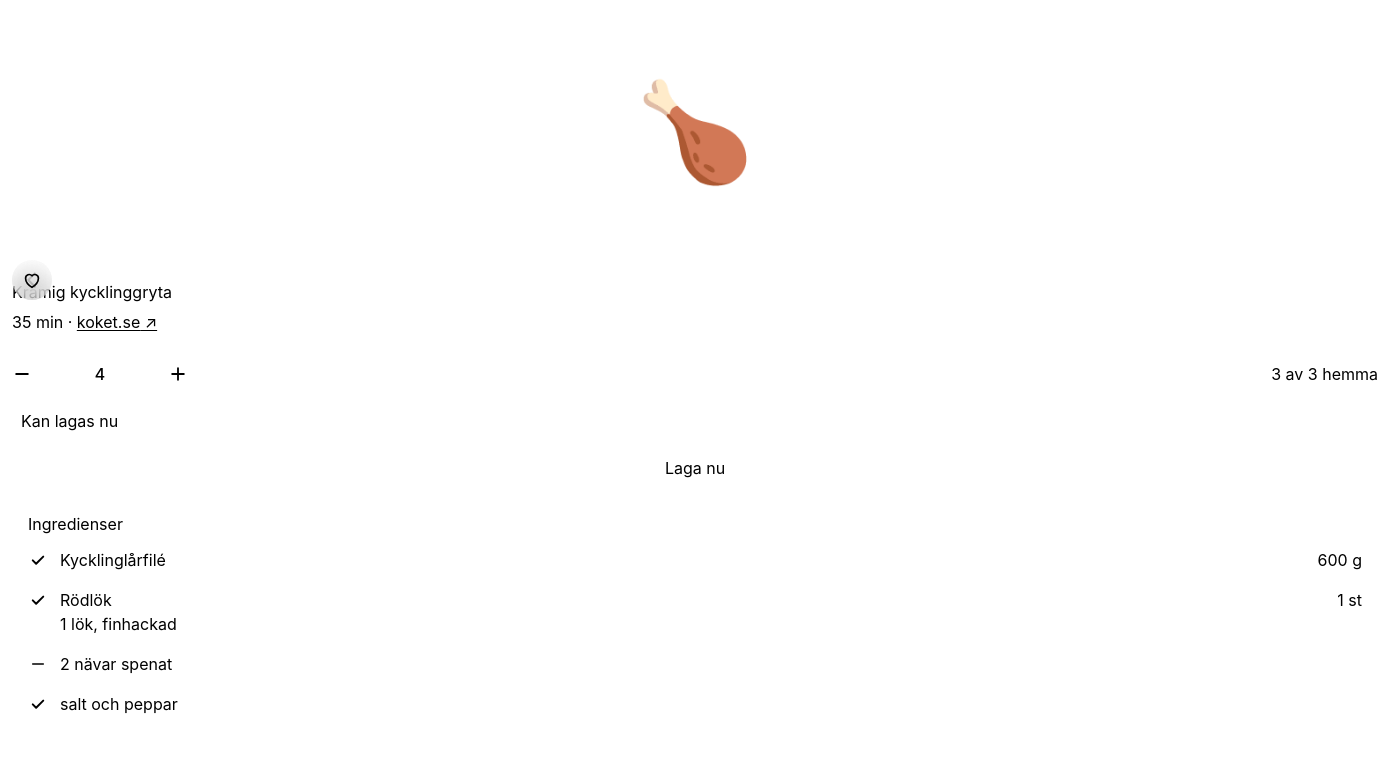
Test: RecipeView: the portion selector › never scales a vague line or the text of a line without ingredient, which shows the factor instead
Click the button named "Fler portioner" at (178, 374), box [168,364,188,384]
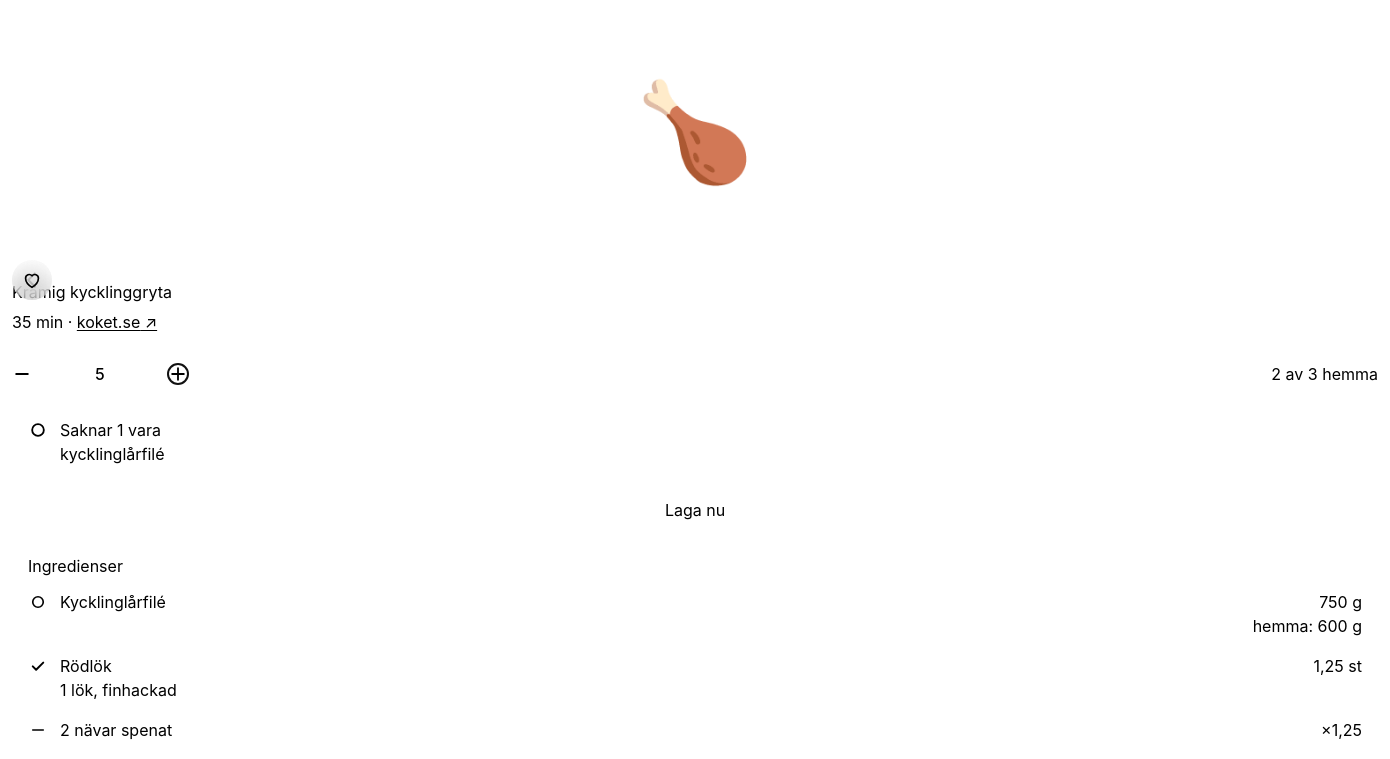
Click the button named "Fler portioner" at (178, 374), box [168,364,188,384]
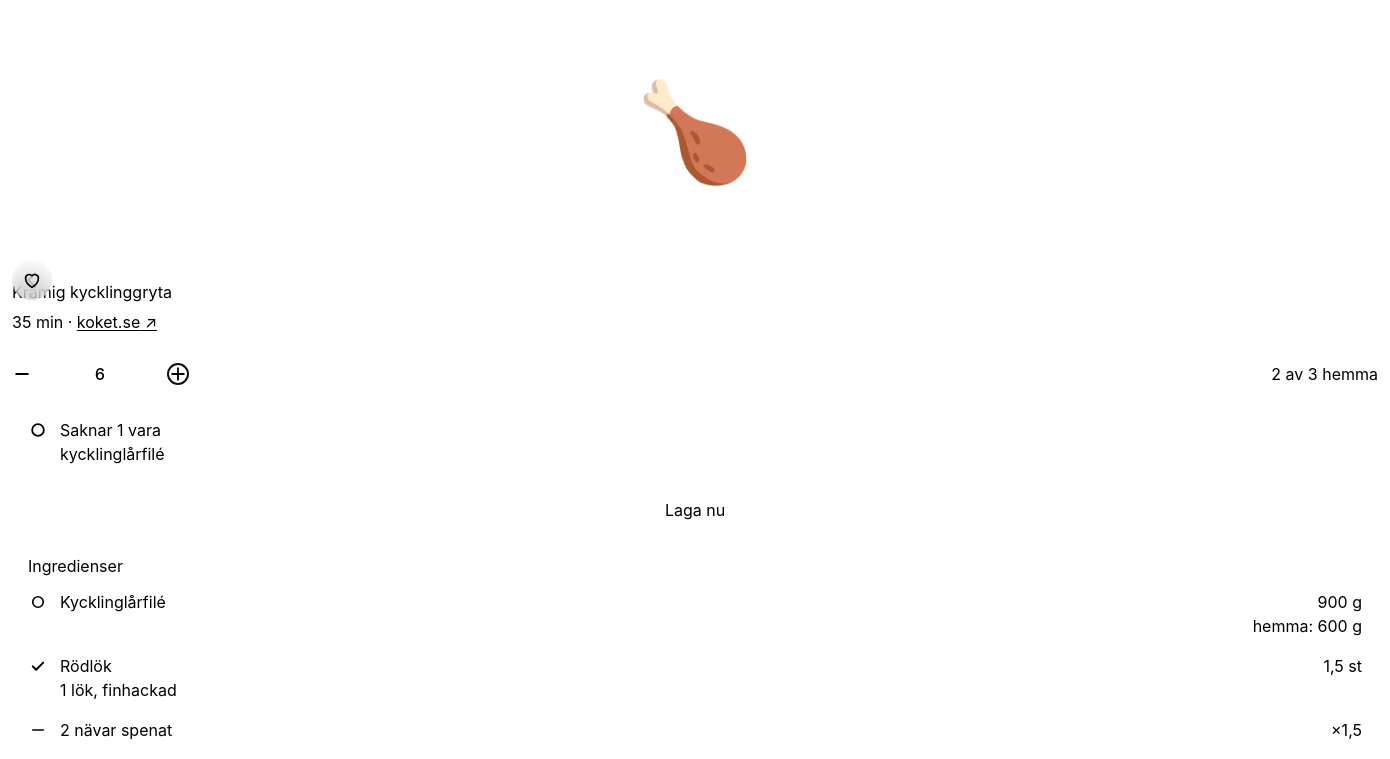
Click the button named "Fler portioner" at (178, 374), box [168,364,188,384]
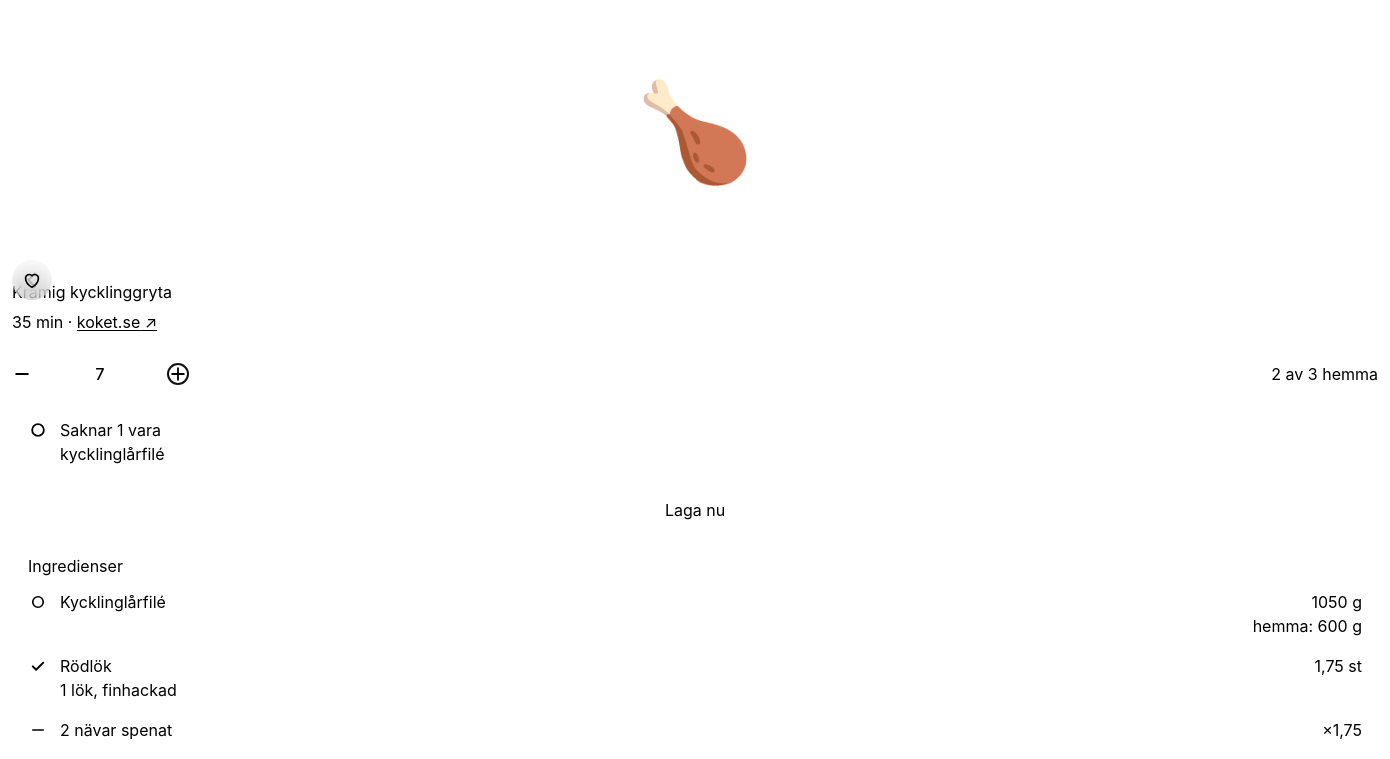
Click the button named "Fler portioner" at (178, 374), box [168,364,188,384]
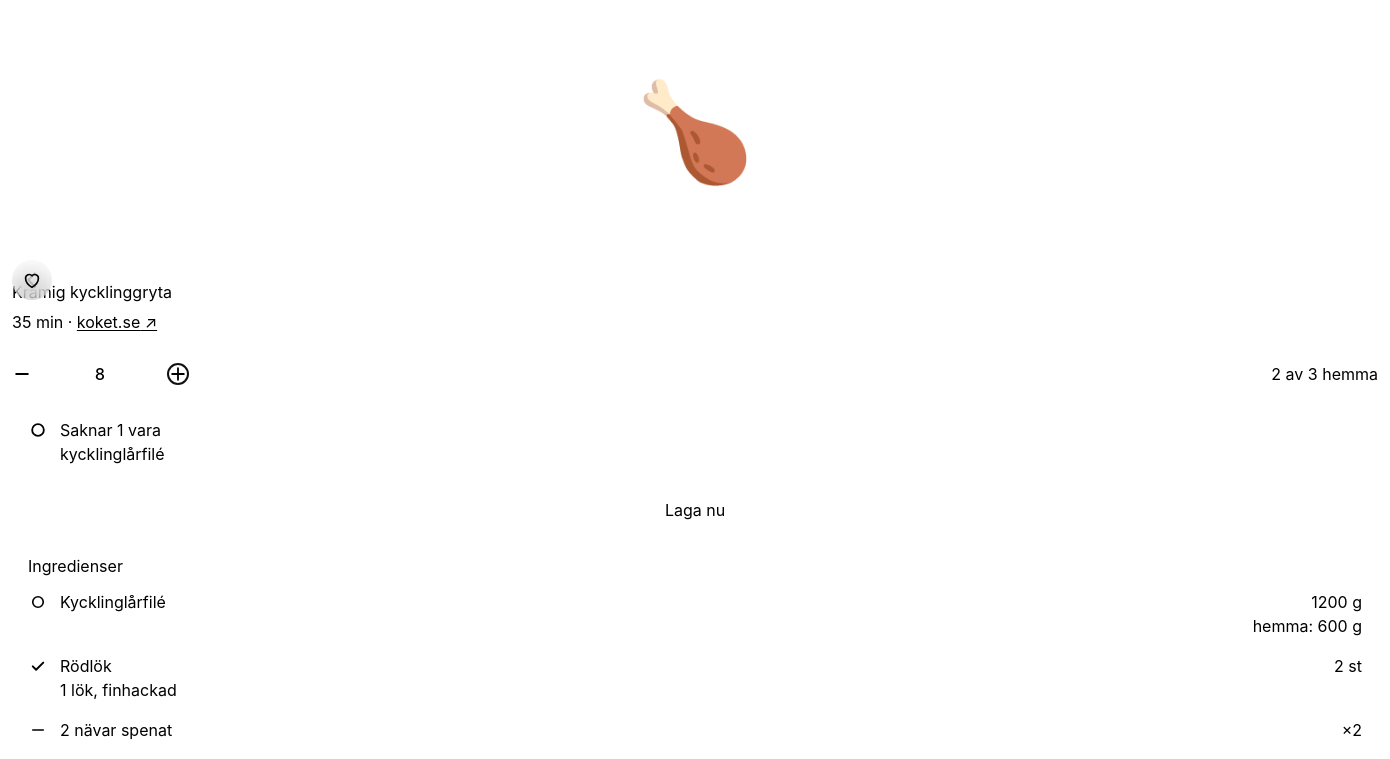
Now the list item with test id "recipe-view-line" reads "2 nävar spenat ×2", box [29,720,1362,740]
Click the button named "Färre portioner" at (22, 374), box [12,364,32,384]
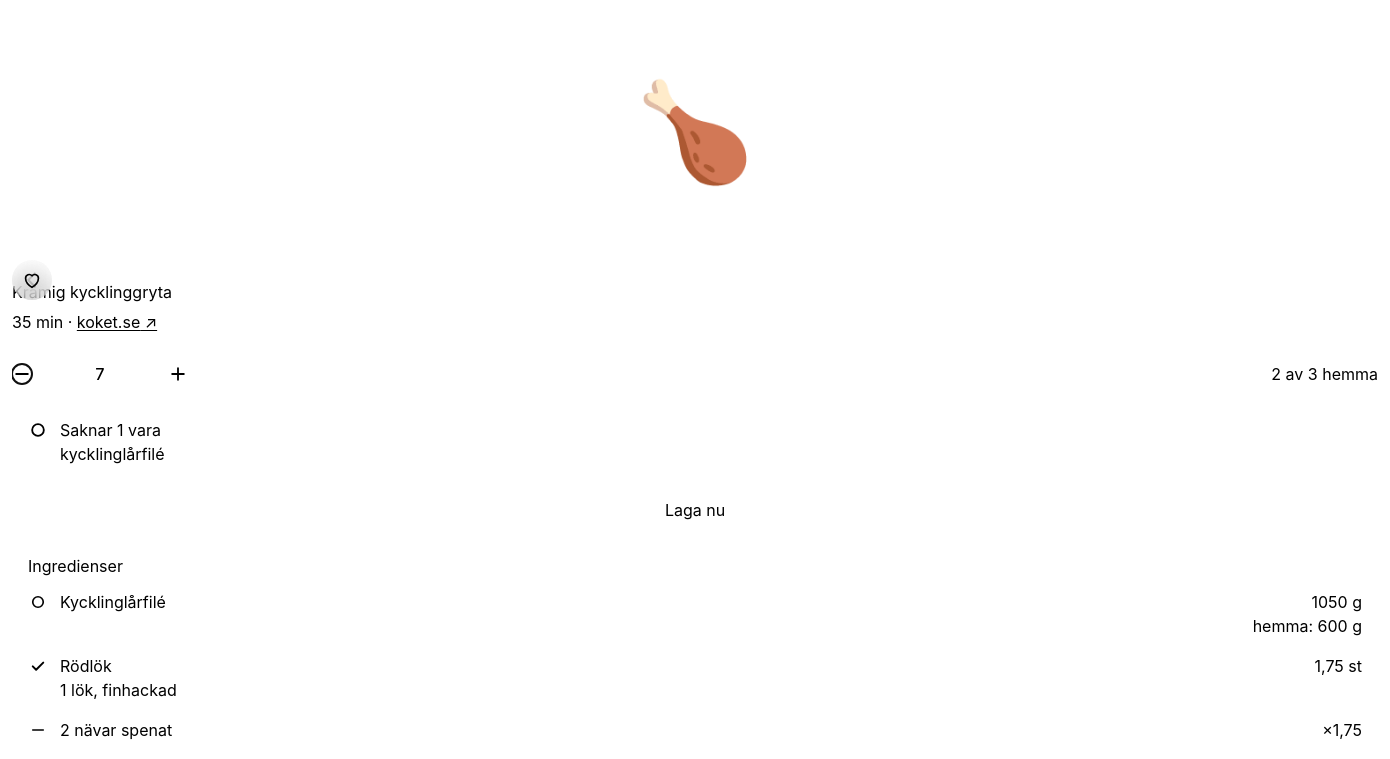
Now the text "×1,75" is shown, box [1322,718,1362,742]
